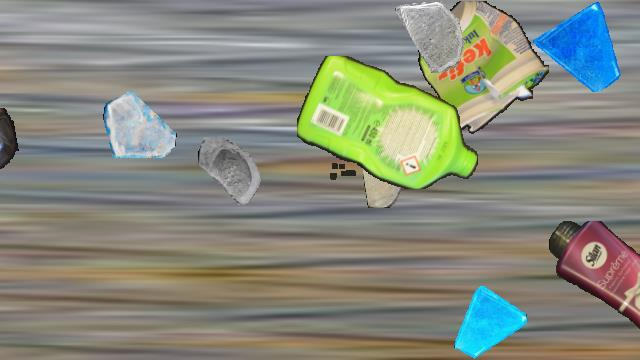glass: (533, 1, 623, 91), (197, 137, 273, 213), (103, 88, 177, 162), (452, 285, 526, 359), (395, 1, 467, 73)
plastic: (297, 56, 479, 188), (417, 1, 549, 139), (548, 221, 640, 359), (0, 108, 21, 248)
wood: (363, 134, 401, 208)
